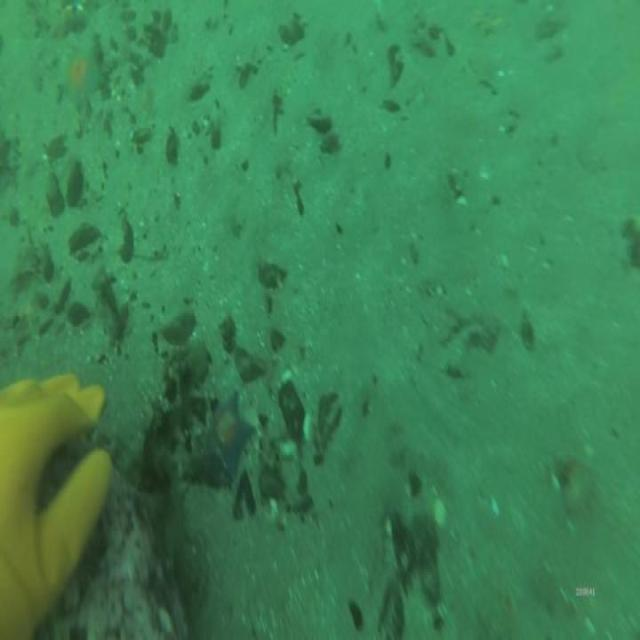starfish: (201, 395, 253, 474), (63, 46, 106, 109)
